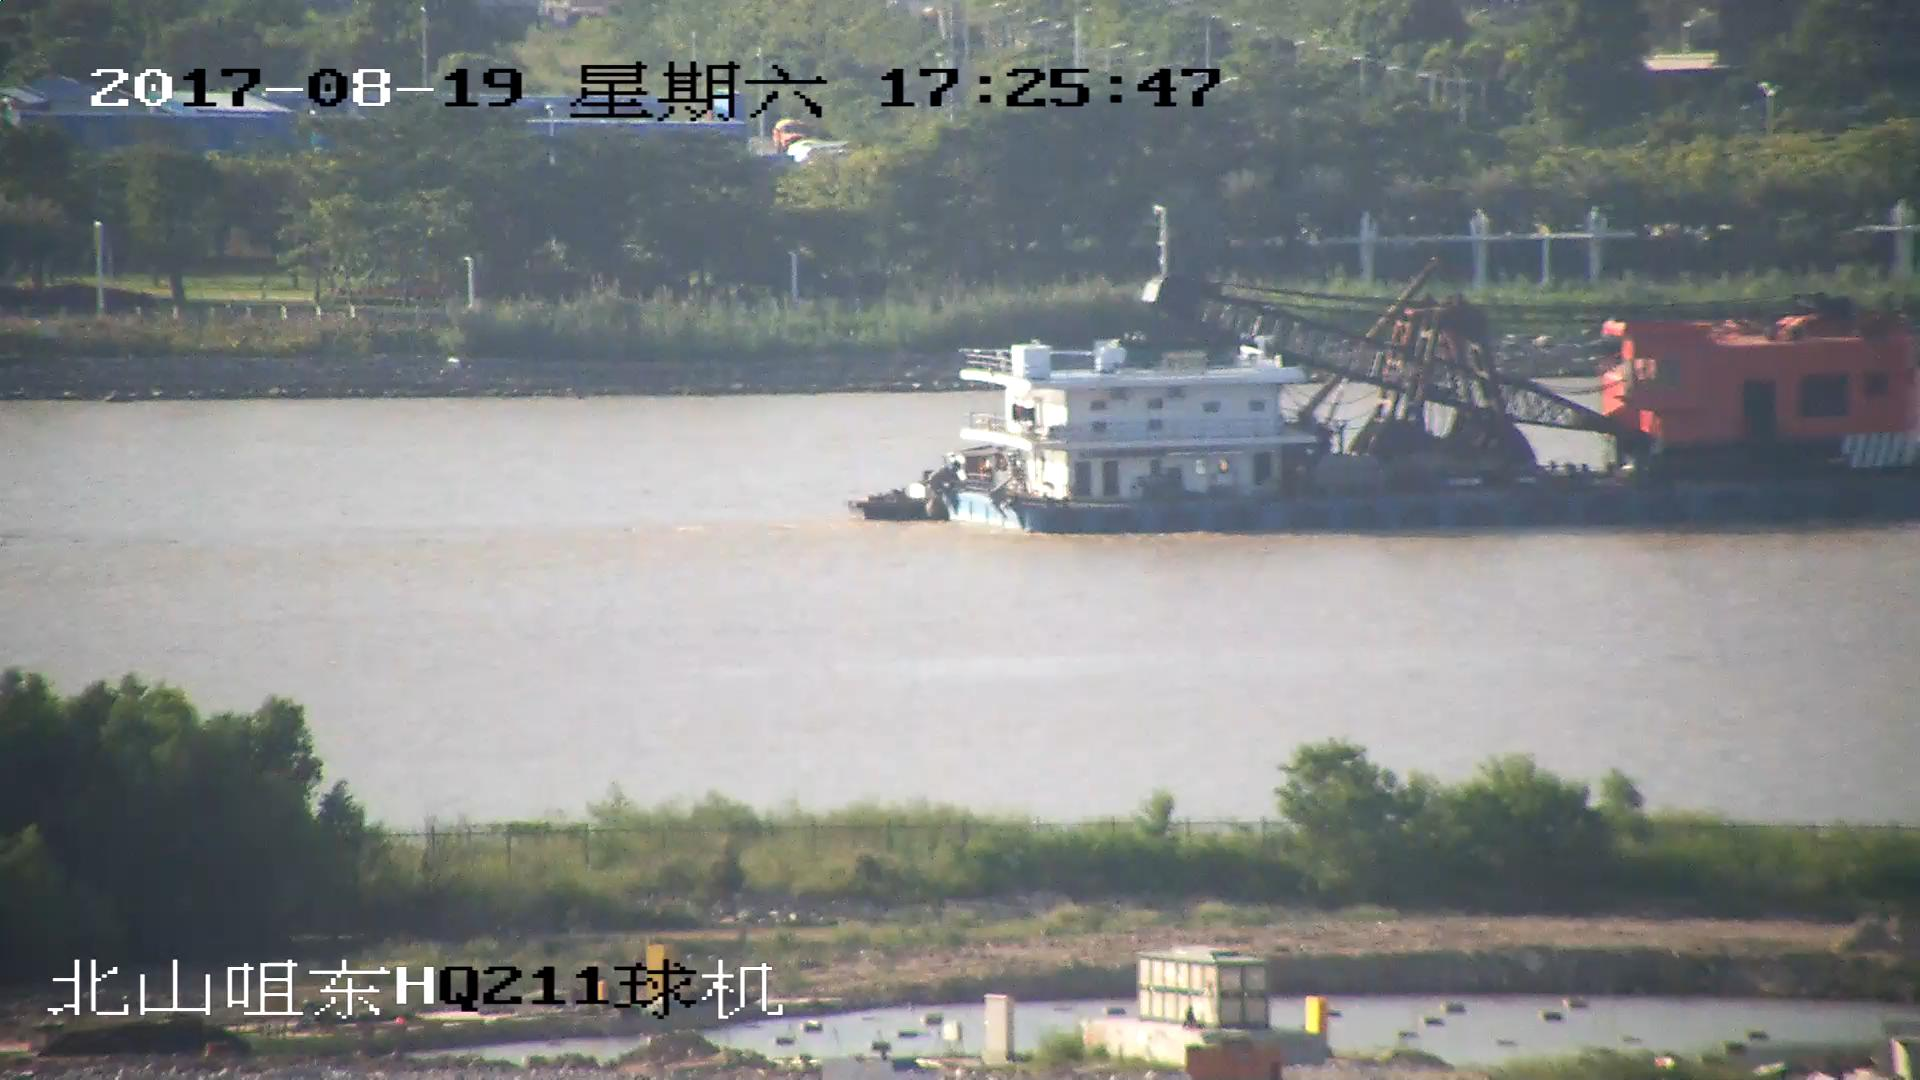fishing boat: (840, 253, 1920, 534)
